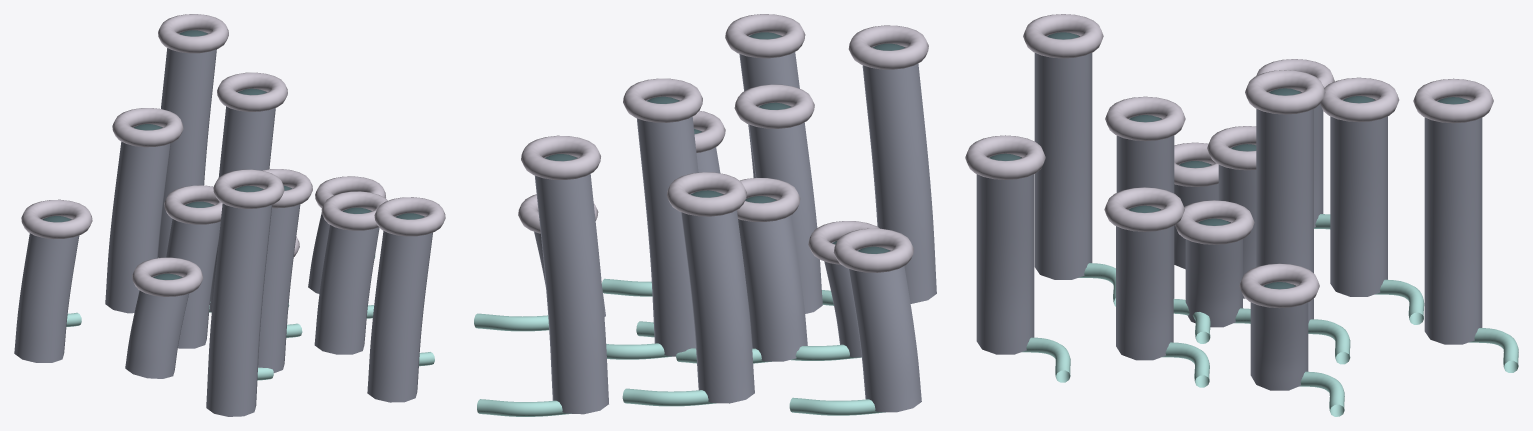
File: bio_thermal_colony_11_near.glb
3 views of the same model, side by side, from view 1: azimuth 30°, elevation 25°; view 2: azimuth 150°, elevation 25°; view 3: azimuth 270°, elevation 25° (orthographic). The views are drawn at different scales.
Parts seen in each view (by area): view 1: Chimney biofilm.007, Chimney biofilm.010, Chimney biofilm.006, Chimney biofilm.005, Chimney biofilm.009, Chimney biofilm.011, Chimney biofilm.002, Chimney biofilm.004, Chimney biofilm.001, Chimney biofilm.003, Open vent rim.010, Open vent rim.007 (+10 smaller); view 2: Chimney biofilm.011, Chimney biofilm.007, Chimney biofilm.006, Chimney biofilm.003, Chimney biofilm.009, Chimney biofilm.001, Chimney biofilm.002, Open vent rim.007, Open vent rim.006, Open vent rim.009, Open vent rim.010, Open vent rim.002 (+16 smaller); view 3: Chimney biofilm.011, Chimney biofilm.007, Chimney biofilm.010, Chimney biofilm.006, Chimney biofilm.003, Chimney biofilm.005, Chimney biofilm.008, Chimney biofilm, Chimney biofilm.002, Open vent rim.003, Open vent rim.007, Open vent rim.005 (+20 smaller).
Part boxes in pixels (x1=…): Chimney biofilm.007: x1=206, y1=188, x2=272, y2=416; Chimney biofilm.010: x1=367, y1=215, x2=432, y2=402; Chimney biofilm.006: x1=105, y1=126, x2=170, y2=313; Chimney biofilm.005: x1=314, y1=210, x2=379, y2=354; Chimney biofilm.009: x1=14, y1=218, x2=79, y2=362; Chimney biofilm.011: x1=158, y1=32, x2=216, y2=257; Chimney biofilm.002: x1=258, y1=187, x2=300, y2=372; Chimney biofilm.004: x1=125, y1=276, x2=188, y2=378; Chimney biofilm.001: x1=166, y1=203, x2=220, y2=348; Chimney biofilm.003: x1=209, y1=91, x2=275, y2=311; Open vent rim.010: x1=374, y1=197, x2=445, y2=236; Open vent rim.007: x1=213, y1=169, x2=284, y2=208; Chimney biofilm.011: x1=535, y1=156, x2=608, y2=414; Chimney biofilm.007: x1=862, y1=46, x2=936, y2=303; Chimney biofilm.006: x1=681, y1=193, x2=754, y2=403; Chimney biofilm.003: x1=636, y1=99, x2=698, y2=356; Chimney biofilm.009: x1=848, y1=248, x2=921, y2=412; Chimney biofilm.001: x1=738, y1=198, x2=807, y2=361; Chimney biofilm.002: x1=749, y1=105, x2=822, y2=313; Open vent rim.007: x1=848, y1=25, x2=928, y2=69; Open vent rim.006: x1=667, y1=172, x2=746, y2=216; Open vent rim.009: x1=833, y1=228, x2=913, y2=272; Open vent rim.010: x1=725, y1=14, x2=805, y2=58; Open vent rim.002: x1=734, y1=84, x2=814, y2=128; Chimney biofilm.011: x1=1424, y1=100, x2=1482, y2=344; Chimney biofilm.007: x1=1034, y1=35, x2=1092, y2=279; Chimney biofilm.010: x1=976, y1=156, x2=1034, y2=354; Chimney biofilm.006: x1=1330, y1=98, x2=1387, y2=296; Chimney biofilm.003: x1=1256, y1=91, x2=1313, y2=323; Chimney biofilm.005: x1=1116, y1=208, x2=1173, y2=360; Chimney biofilm.008: x1=1250, y1=284, x2=1308, y2=390; Chimney biofilm: x1=1185, y1=221, x2=1242, y2=327; Chimney biofilm.002: x1=1116, y1=118, x2=1174, y2=298; Open vent rim.003: x1=1245, y1=70, x2=1325, y2=114; Open vent rim.007: x1=1023, y1=14, x2=1103, y2=58; Open vent rim.005: x1=1104, y1=187, x2=1184, y2=231.
Size of the model in its own units: 1.68 by 0.9895 by 1.92.
